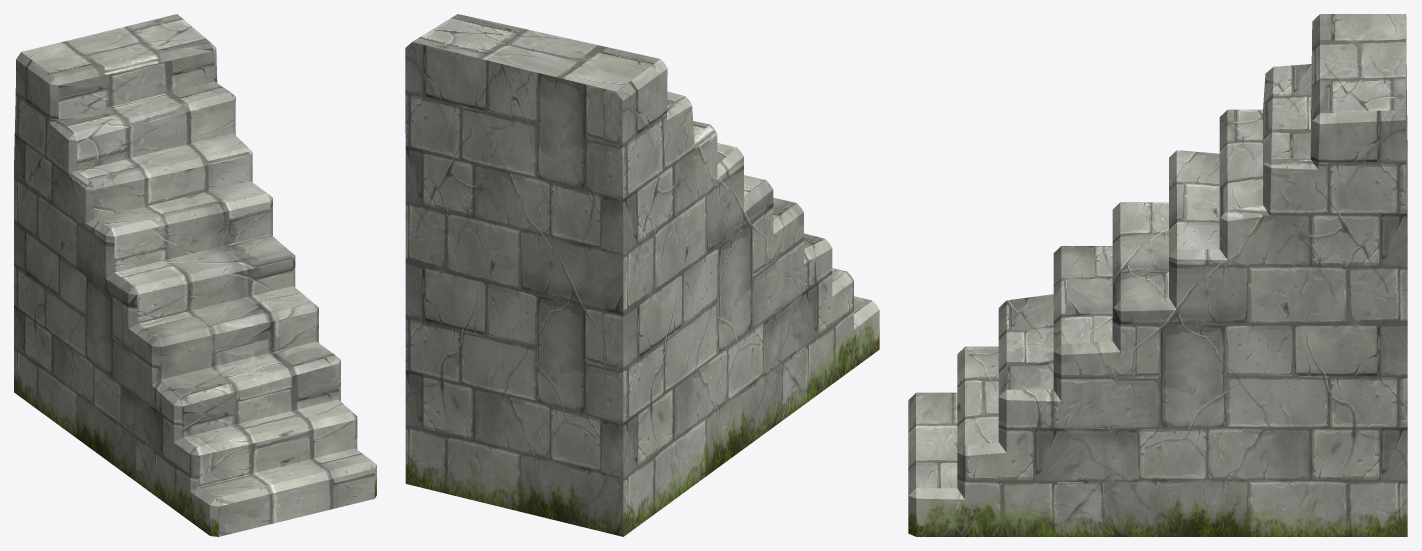
File: Stair_01.FBX
The picture shows the model from 3 angles, left to right: view 1: azimuth 30°, elevation 25°; view 2: azimuth 150°, elevation 25°; view 3: azimuth 270°, elevation 25°; orthographic projection. The views are drawn at different scales.
Visible parts, largest first — view 1: Stair_01; view 2: Stair_01; view 3: Stair_01.
Boxes of the visible parts, left/top/right/bottom form: Stair_01: left=14, top=14, right=376, bottom=536; Stair_01: left=405, top=14, right=879, bottom=536; Stair_01: left=908, top=14, right=1407, bottom=536.
Bounding box in the file's own units: 66.81 × 129 × 137.
